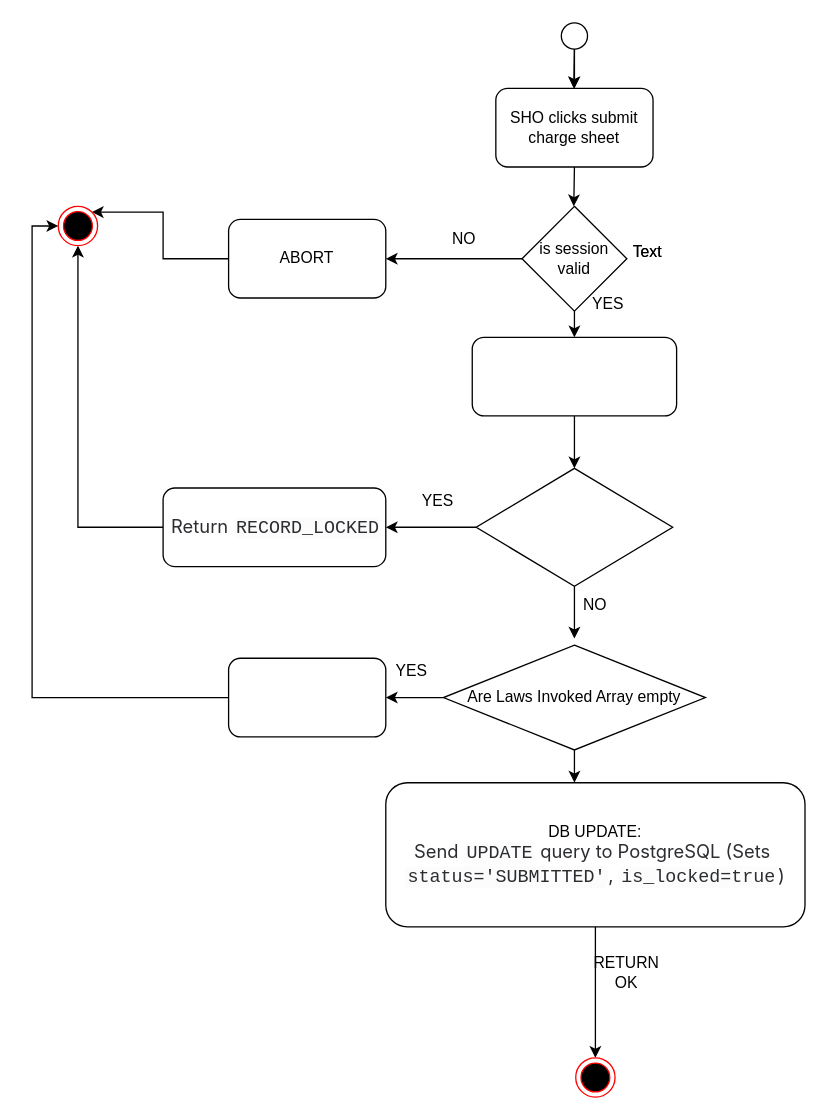
This 828x1120 diagram has some shape labels left out. Each missing label, with the centre of its shape:
"ChargeSheet:: submitToMagistrate()" goes at (x=574, y=376).
"INVALID STATE" goes at (x=306, y=697).
"is Charge Sheet already submitted" goes at (x=574, y=526).
